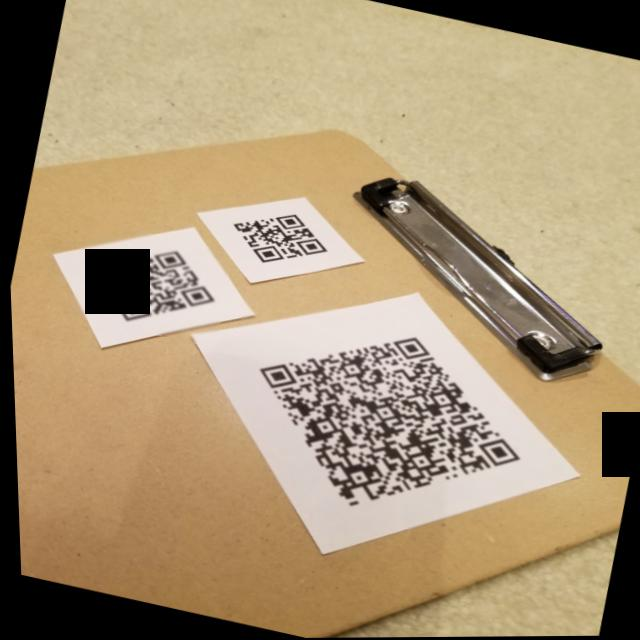QR_CODE: (199, 287, 568, 557), (65, 220, 234, 349), (209, 184, 344, 284)
